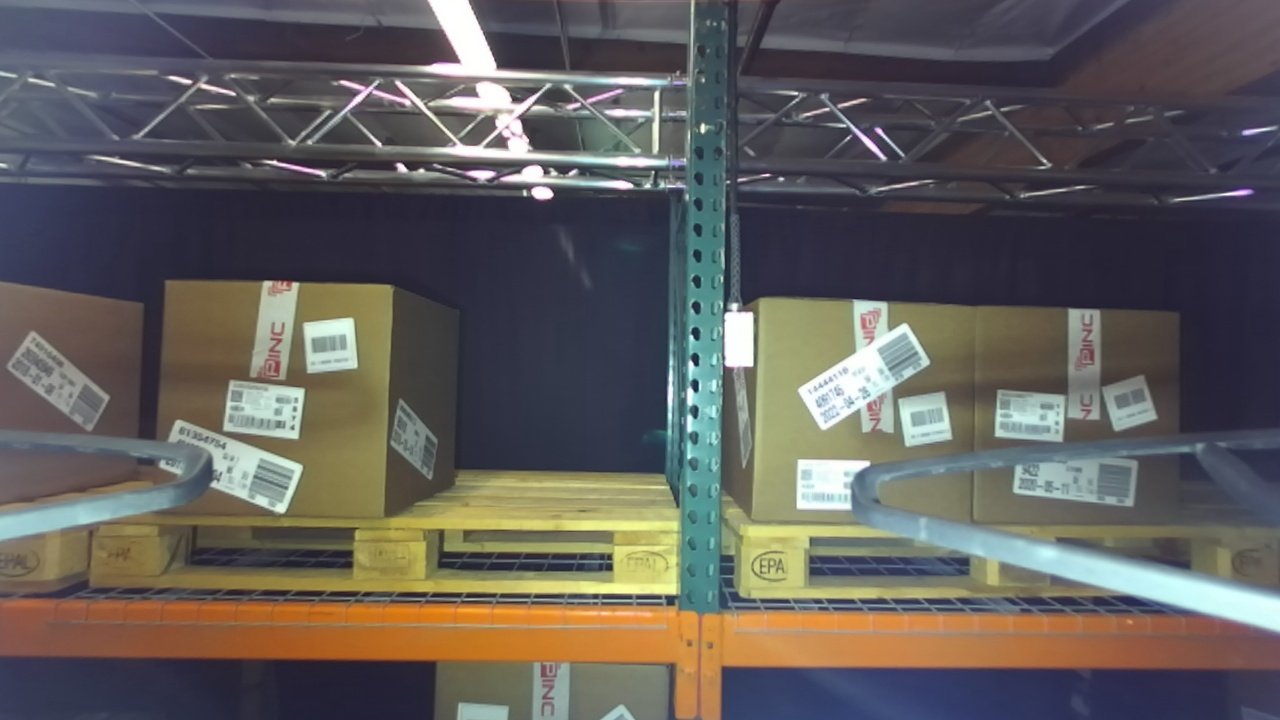box: (128, 252, 423, 545), (960, 267, 1194, 554), (742, 268, 983, 540)
